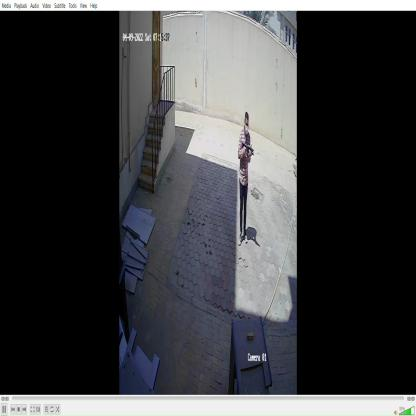handgun: (240, 139, 257, 160)
